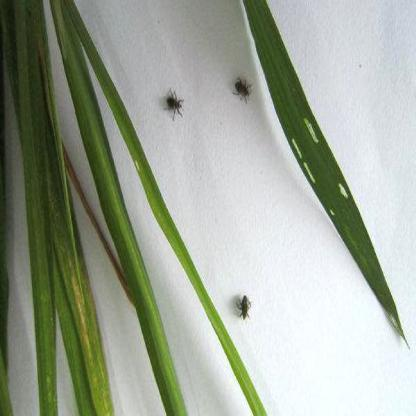rice-bug: (164, 90, 192, 118), (234, 285, 254, 321), (234, 76, 254, 102)
